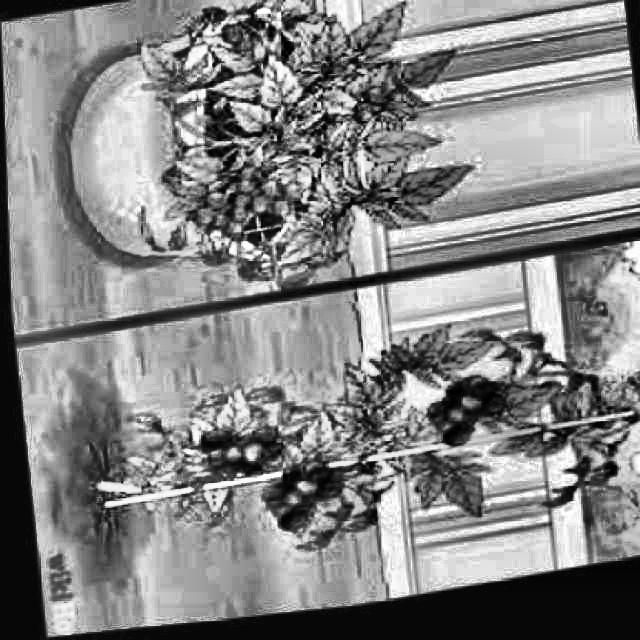plants: (106, 303, 639, 594), (51, 0, 478, 326)
